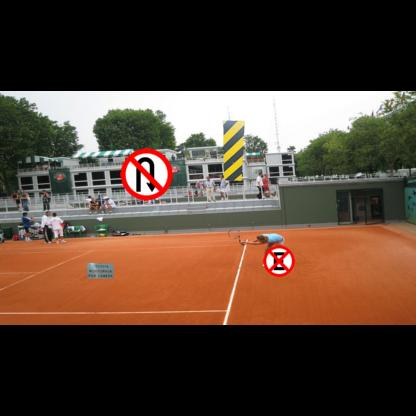I-E: (87, 263, 113, 278)
O-MP: (223, 120, 245, 181)
R-6c: (263, 245, 295, 277)
